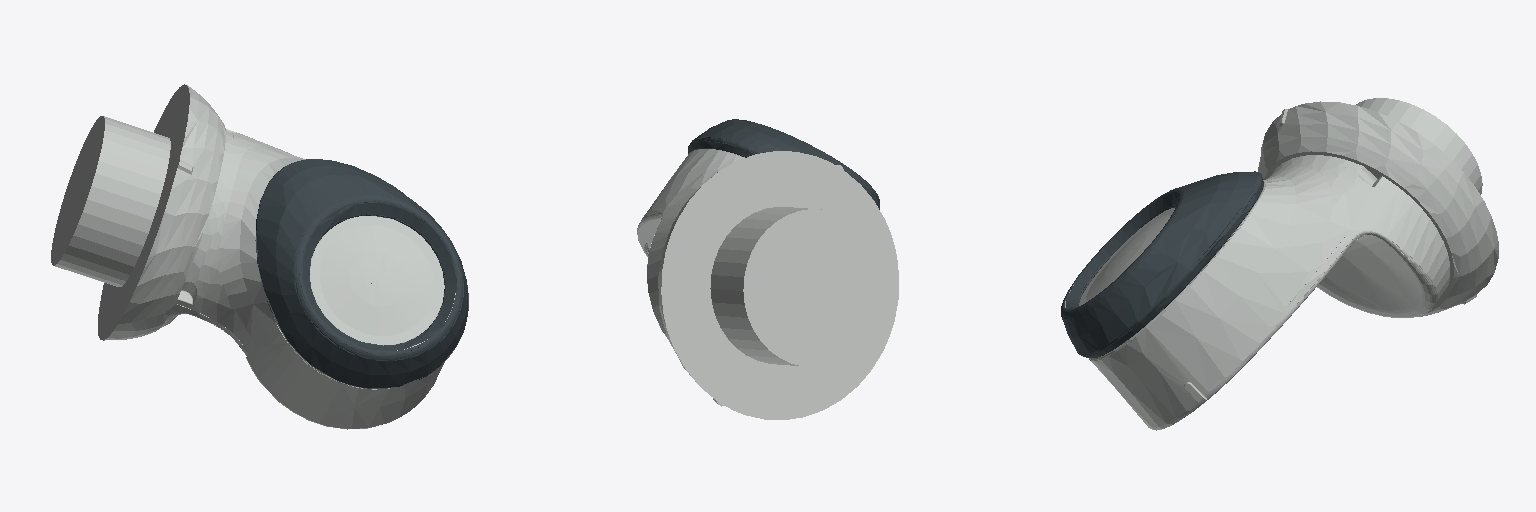
File: IRB14000_rev00_Link1_R.obj
3 views of the same model, side by side, from view 1: azimuth 30°, elevation 25°; view 2: azimuth 150°, elevation 25°; view 3: azimuth 270°, elevation 25° (orthographic).
Parts seen in each view (by area): view 1: Link1_R3.0, Link1_R3.0-1; view 2: Link1_R3.0, Link1_R3.0-1; view 3: Link1_R3.0, Link1_R3.0-1.
Boxes of the visible parts, box(x1,y1,x2,y2) form: Link1_R3.0: box(51, 84, 455, 429); Link1_R3.0-1: box(255, 159, 468, 388); Link1_R3.0: box(637, 149, 898, 419); Link1_R3.0-1: box(688, 119, 879, 209); Link1_R3.0: box(1065, 98, 1498, 430); Link1_R3.0-1: box(1061, 171, 1263, 357).
Size of the model in its own units: 0.1591 by 0.1376 by 0.1993.